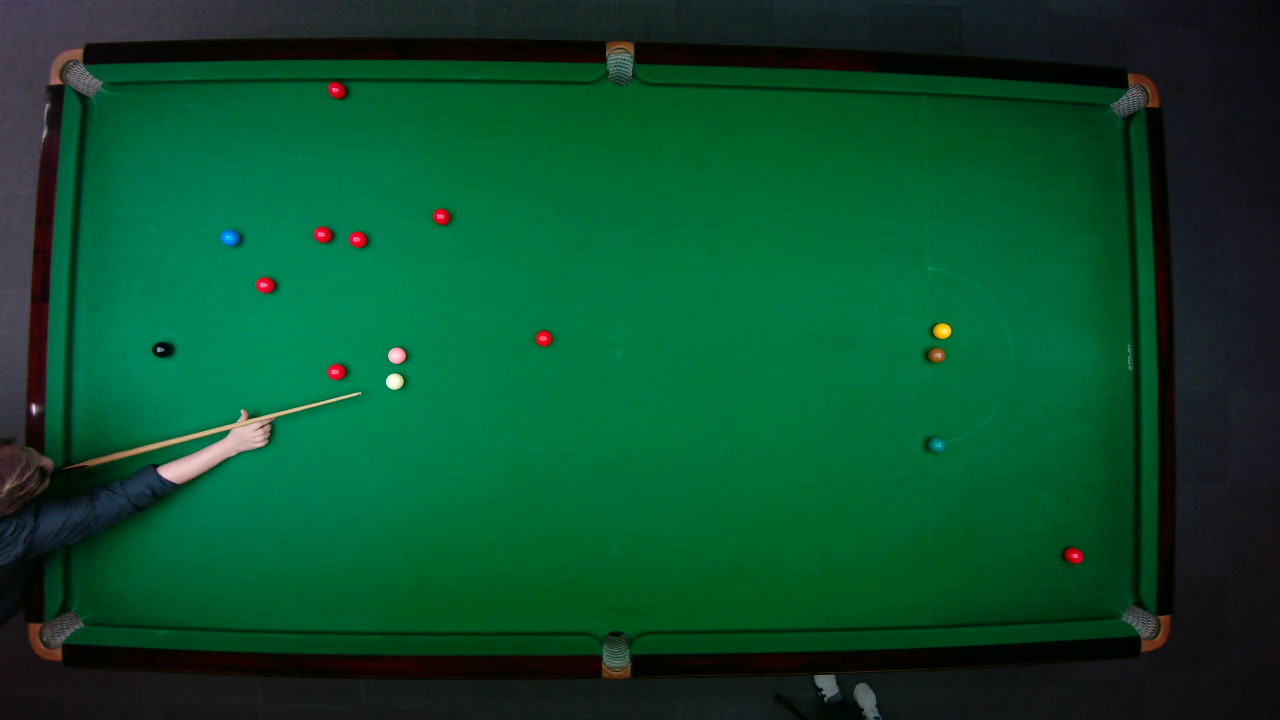bag: (26, 608, 84, 661), (47, 47, 103, 97), (1119, 602, 1171, 651), (1108, 71, 1160, 118), (601, 629, 630, 679), (605, 39, 633, 86)
black: (150, 340, 172, 358)
blue: (218, 228, 240, 246)
brown: (926, 346, 945, 363)
cue: (30, 389, 362, 477)
green: (926, 435, 945, 452)
pink: (386, 345, 407, 364)
red: (1061, 545, 1085, 564), (326, 80, 346, 99), (325, 362, 346, 380), (254, 275, 275, 293), (311, 225, 332, 243), (431, 207, 451, 225), (533, 329, 553, 347), (347, 230, 367, 247)
white: (384, 371, 405, 390)
yellow: (931, 321, 952, 339)
zone: (926, 265, 1013, 445)
